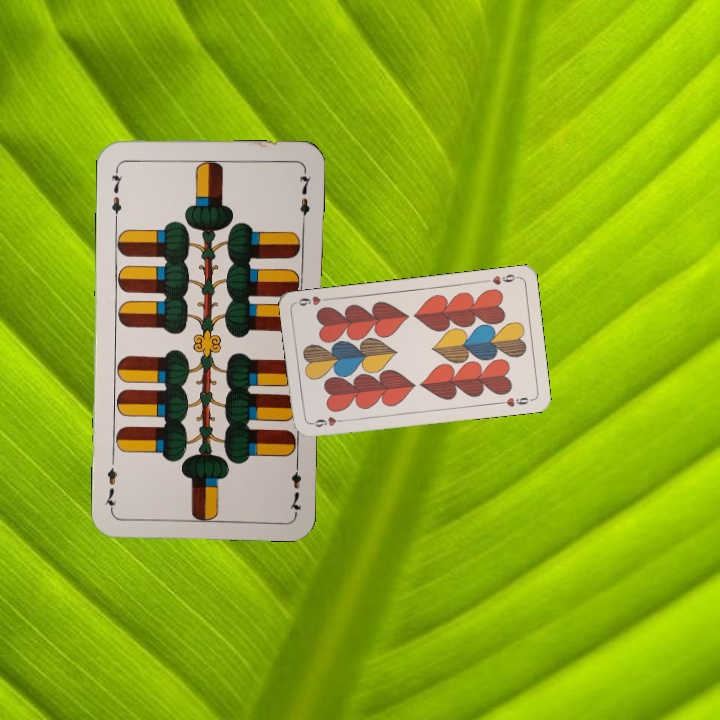E7: (107, 163, 125, 222), (286, 456, 304, 515)
H9: (480, 270, 521, 287), (307, 413, 347, 430)
